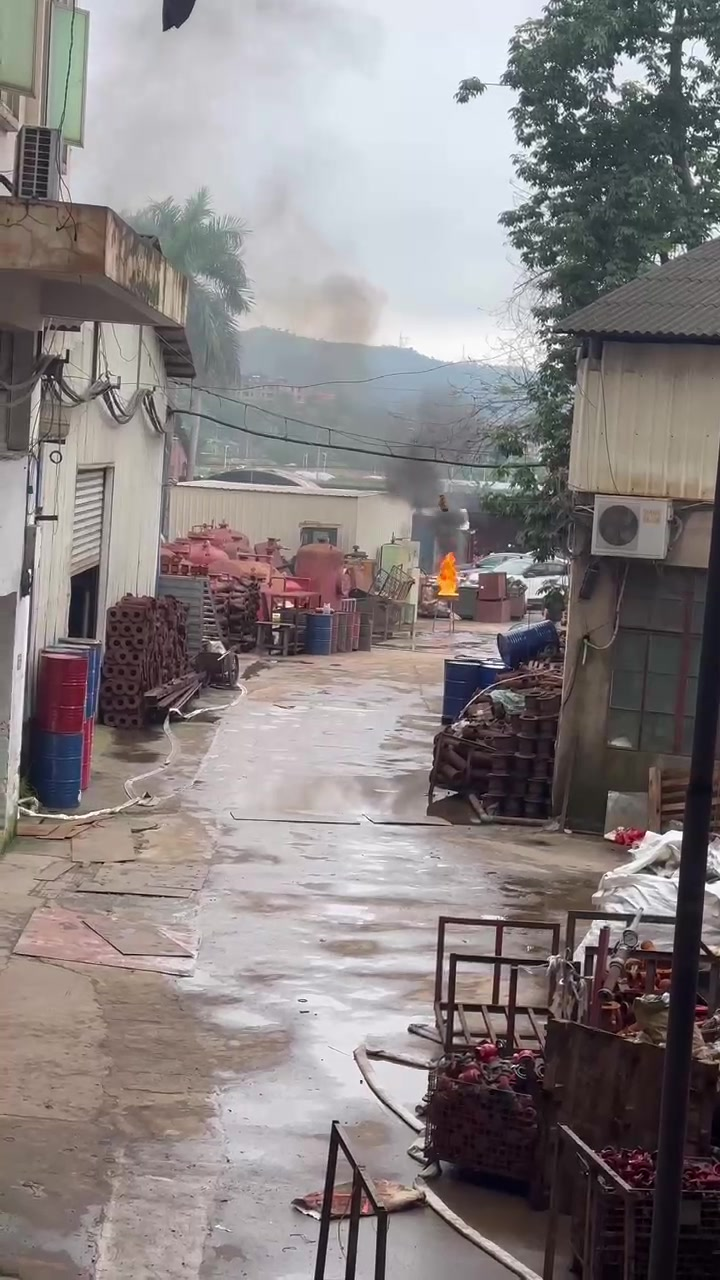fire: (437, 552, 458, 594)
